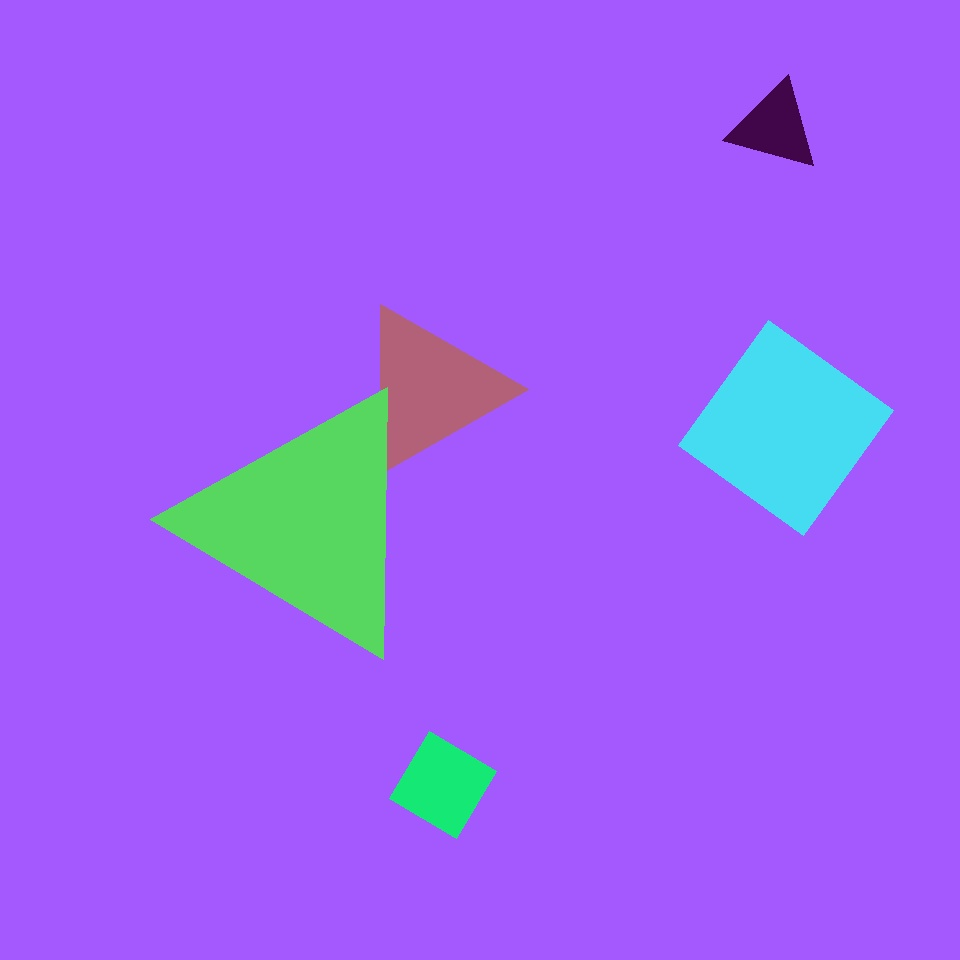circle: (154, 180, 442, 488), (188, 386, 426, 658), (356, 304, 504, 474), (730, 82, 820, 172)
square: (678, 320, 894, 536), (390, 732, 496, 839)
triangle: (655, 522, 908, 776), (585, 279, 725, 420)
